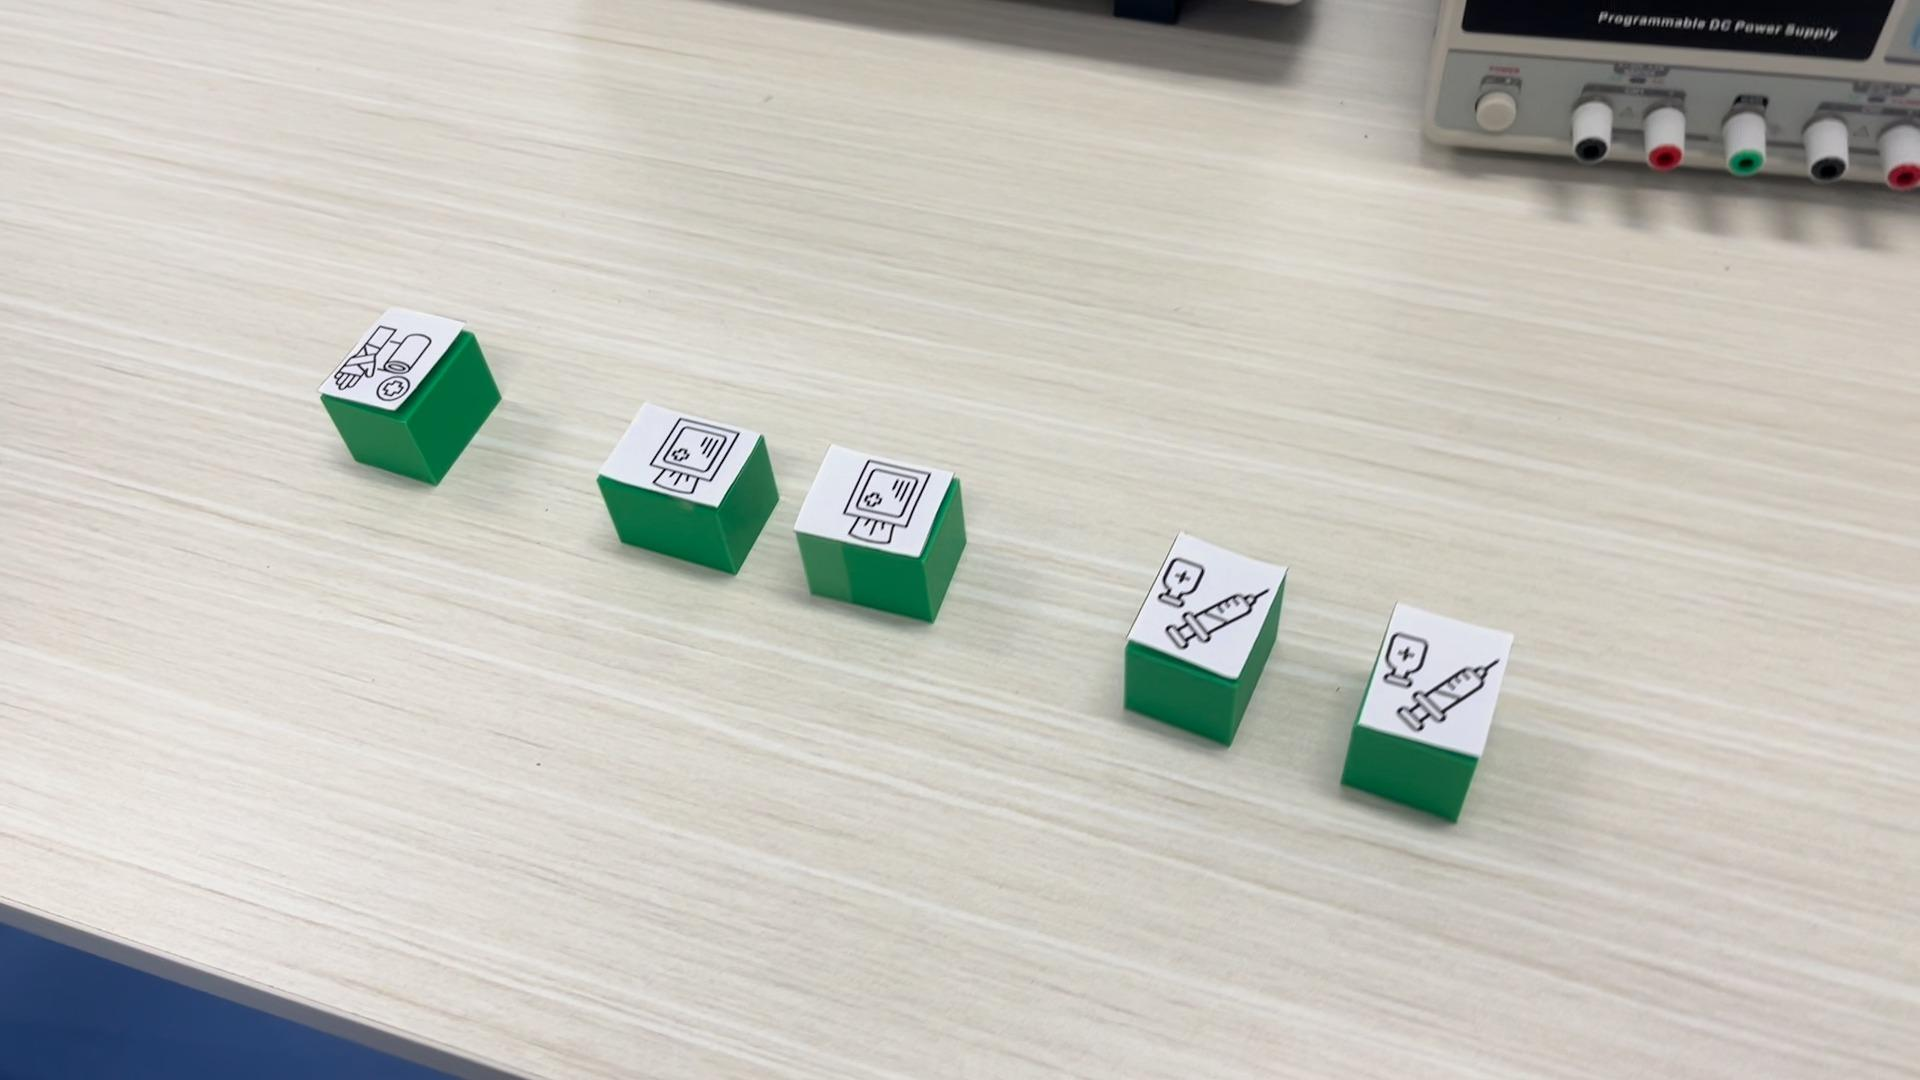Bandages: (318, 305, 501, 485)
Gauze: (595, 400, 775, 574), (795, 442, 967, 622)
antiseptic cream: (1338, 600, 1516, 823), (1120, 530, 1288, 745)
